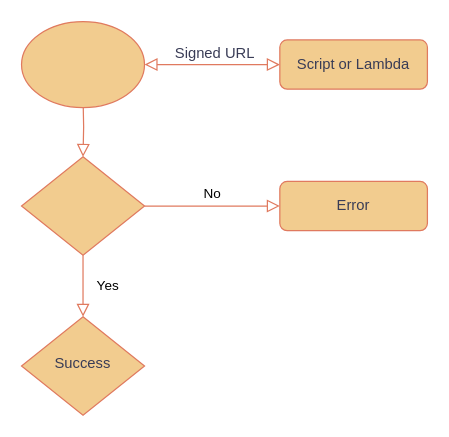
Image size: 449x437. Some labels were removed from this diagram. Here are the shapes that lost their labels. From the top down, the centre of each, then its label:
At point (82, 64): "UI".
At point (82, 205): "File Upload".
